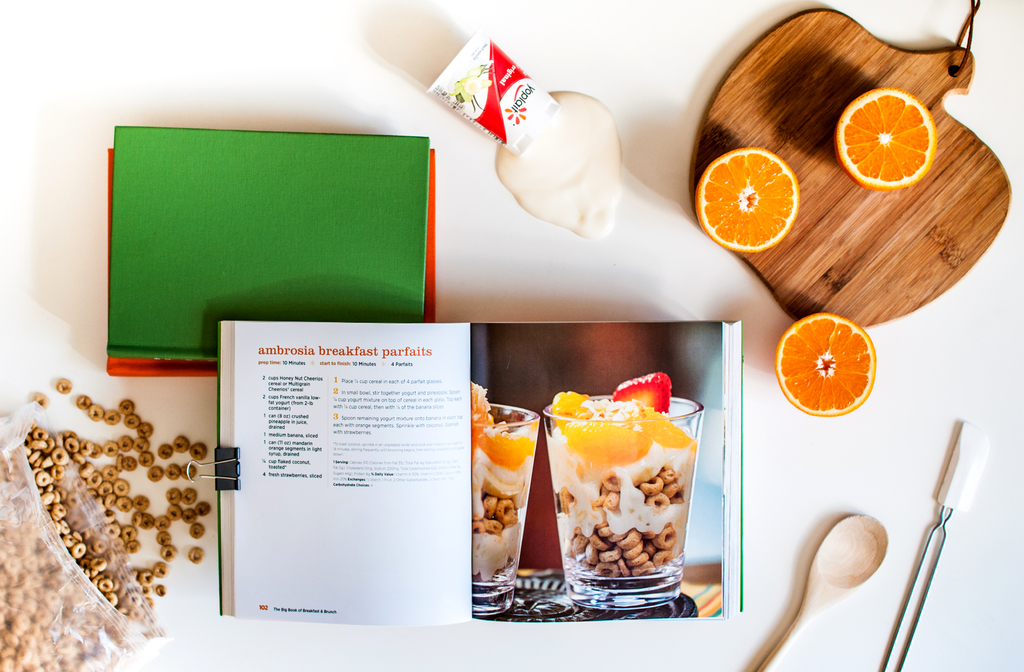Ripe: (831, 86, 941, 191), (701, 150, 793, 248), (781, 314, 870, 412)
